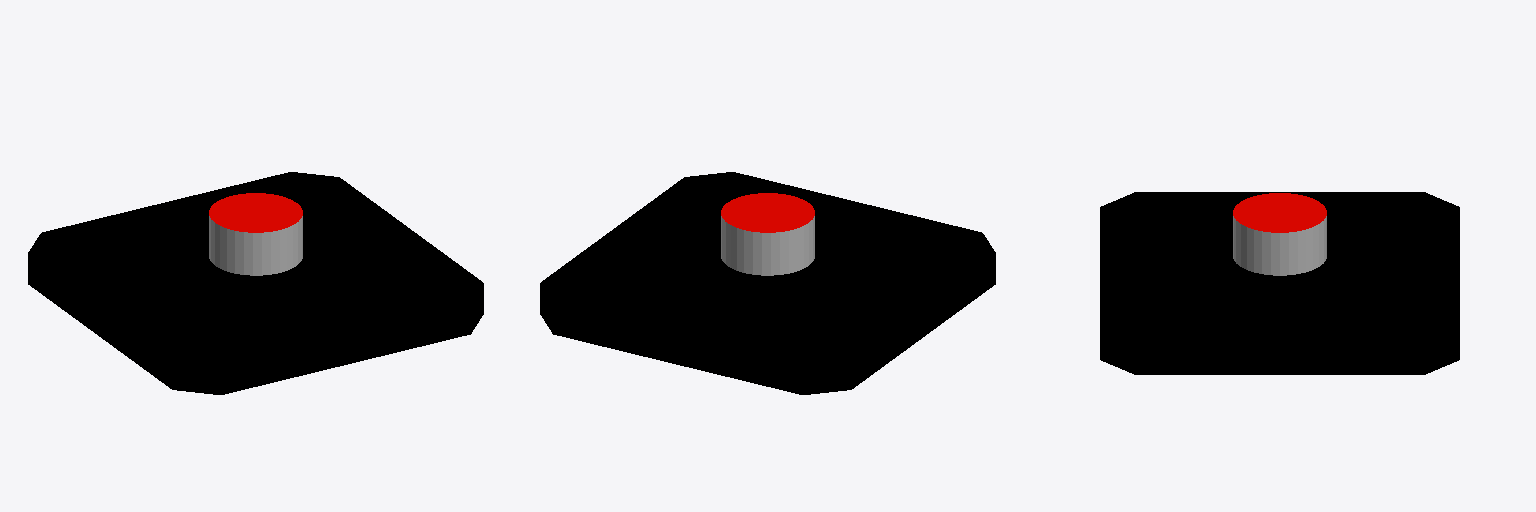
The model's file is PoleBase.obj.
The picture shows the model from 3 angles: view 1: azimuth 30°, elevation 25°; view 2: azimuth 150°, elevation 25°; view 3: azimuth 270°, elevation 25°; orthographic projection.
Parts seen in each view (by area): view 1: Cube.003; view 2: Cube.003; view 3: Cube.003.
Part boxes in pixels (x1,y1,x2,y2): Cube.003: (28,172,483,394); Cube.003: (540,172,995,394); Cube.003: (1100,192,1459,374).
Bounding box in the file's own units: 0.4549 × 0.1202 × 0.4549.